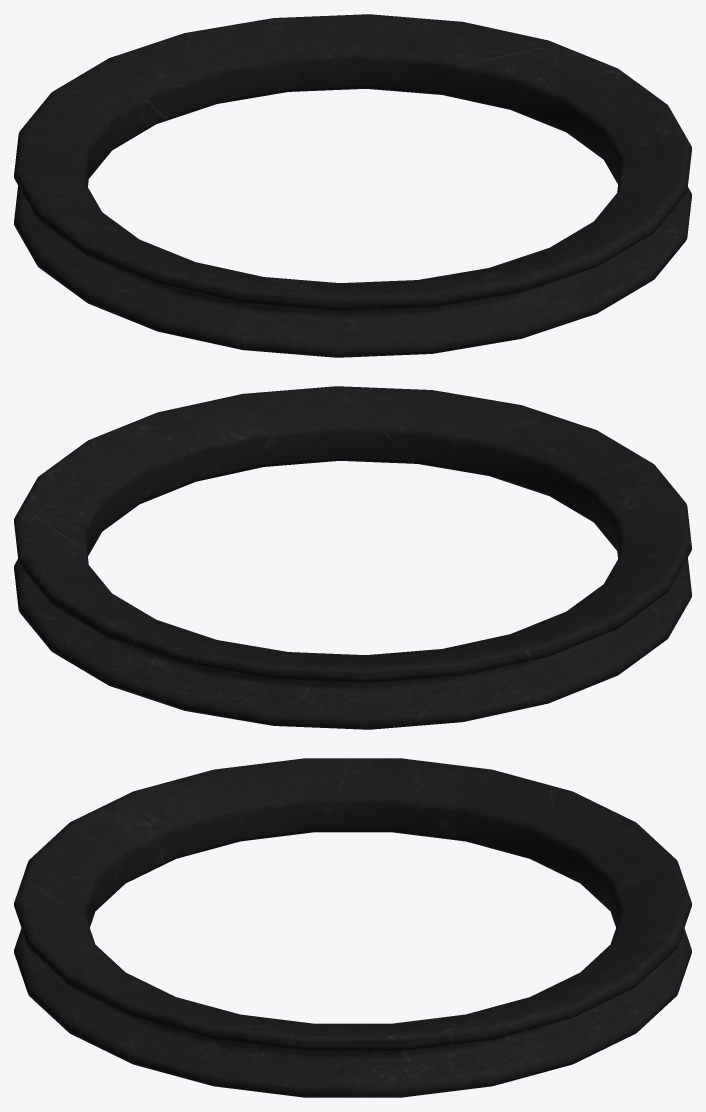
File: Oil seal inner.fbx
3 renders of one model, top to bottom at view 1: azimuth 30°, elevation 25°; view 2: azimuth 150°, elevation 25°; view 3: azimuth 270°, elevation 25°, orthographic.
Visible parts, largest first — view 1: Cylinder.001; view 2: Cylinder.001; view 3: Cylinder.001.
Boxes of the visible parts, x1,y1,x2,y2 form: Cylinder.001: (14, 14, 691, 357); Cylinder.001: (14, 386, 691, 729); Cylinder.001: (14, 758, 691, 1097).
Size of the model in its own units: 54.66 by 5.47 by 55.22.
1 material, 1 textured.
